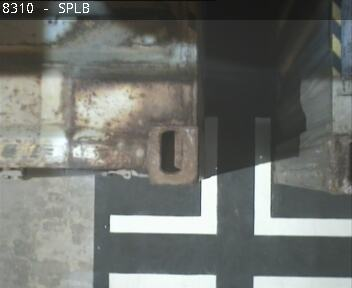groundmarker_1: (108, 118, 351, 237)
